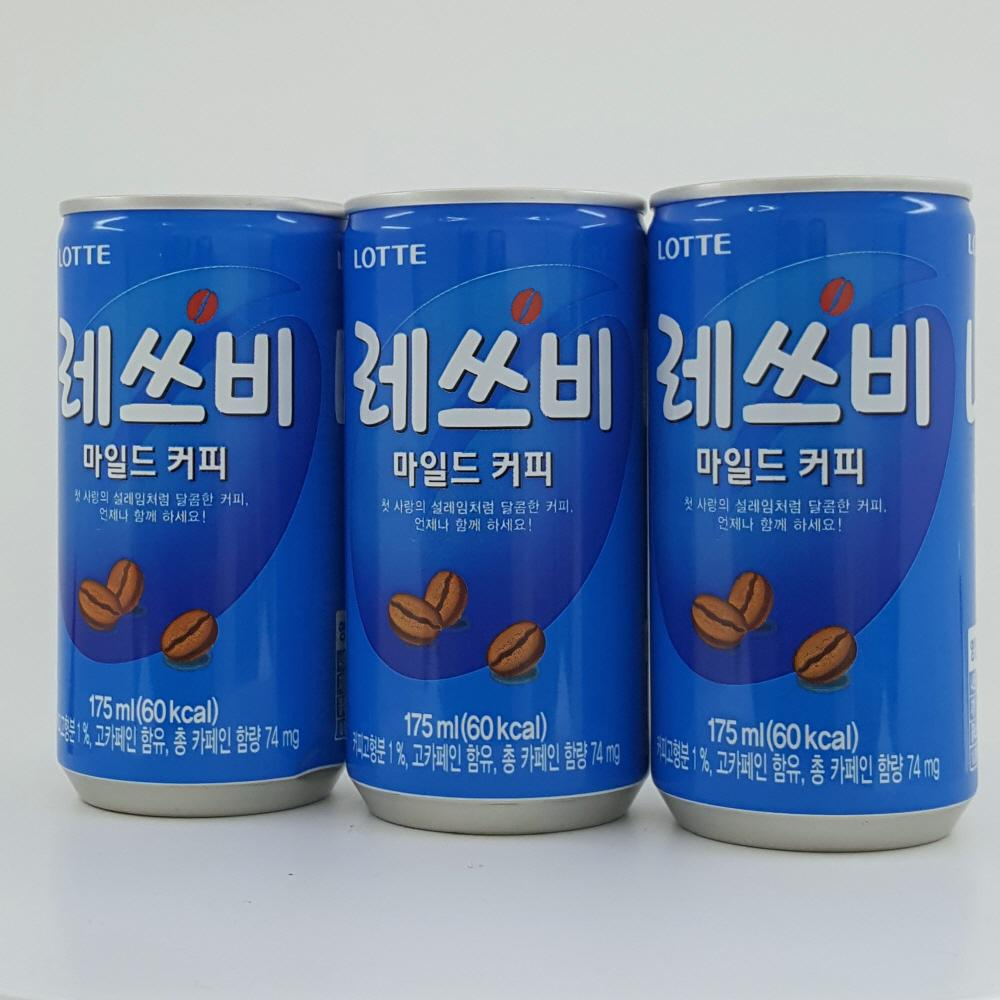letsbe: (651, 178, 987, 840), (336, 195, 657, 837), (58, 200, 347, 822)
